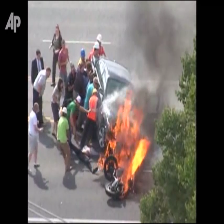fire_h: (105, 90, 150, 200)
fire_l: (105, 159, 117, 171)
